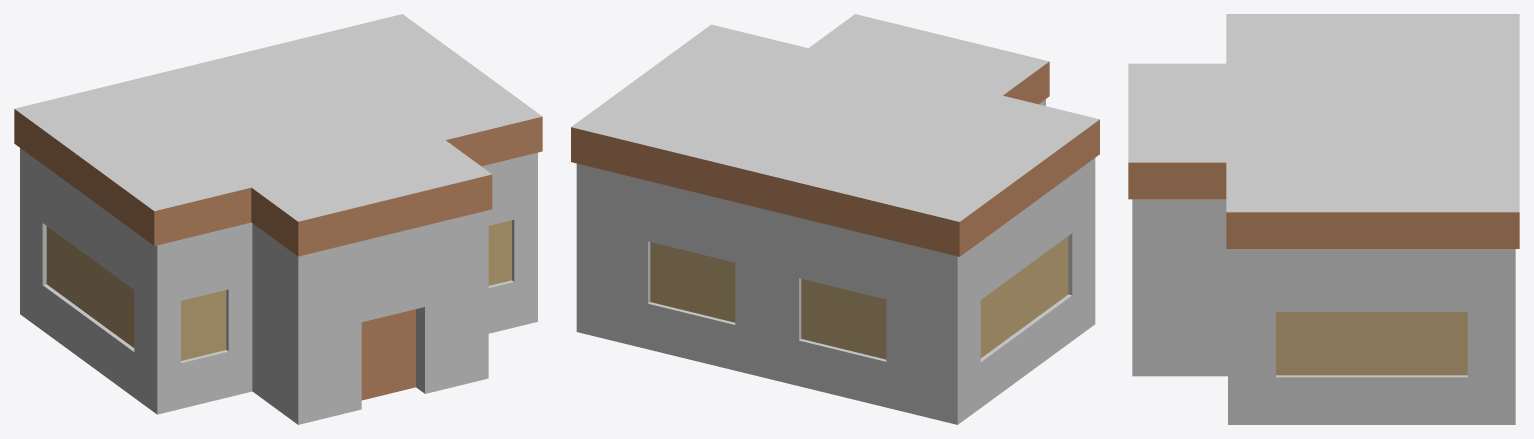
Rendered from CoffeeShop_v1.fbx.
3 views of the same model, side by side, from view 1: azimuth 30°, elevation 25°; view 2: azimuth 150°, elevation 25°; view 3: azimuth 270°, elevation 25° (orthographic). The views are drawn at different scales.
Parts seen in each view (by area): view 1: CoffeeShop_v1; view 2: CoffeeShop_v1; view 3: CoffeeShop_v1.
Boxes of the visible parts, x1,y1,x2,y2 form: CoffeeShop_v1: [14, 14, 542, 424]; CoffeeShop_v1: [571, 14, 1099, 424]; CoffeeShop_v1: [1128, 14, 1519, 424].
Bounding box in the file's own units: 979 × 494 × 816.
